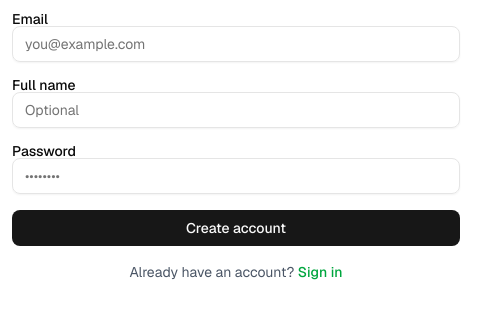
RegistrationForm › detects duplicate email and shows field error
Step 1. Type "duplicate@example.com" into the field labelled "Email" → (236, 44), box [12,26,460,62]
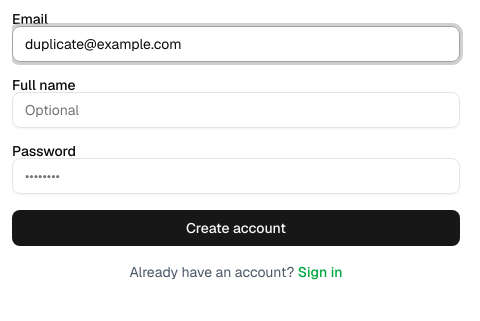
Step 2. Type "Password123!" into the password field labelled "Password" → (236, 176), box [12,158,460,194]
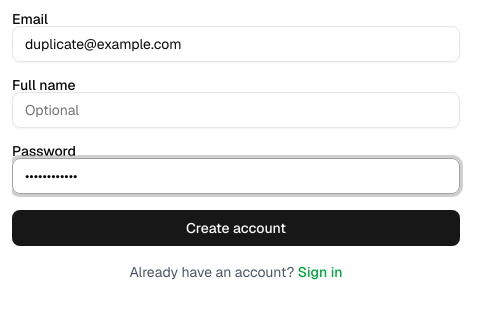
Step 3. Click the button "Create account" → (236, 228), box [12,210,460,246]
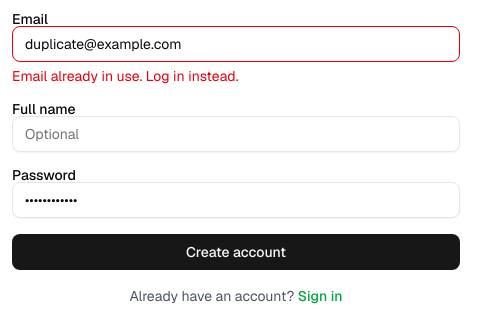
Result: the text "Email already in use. Log in instead." is shown at [12,67,238,85]
